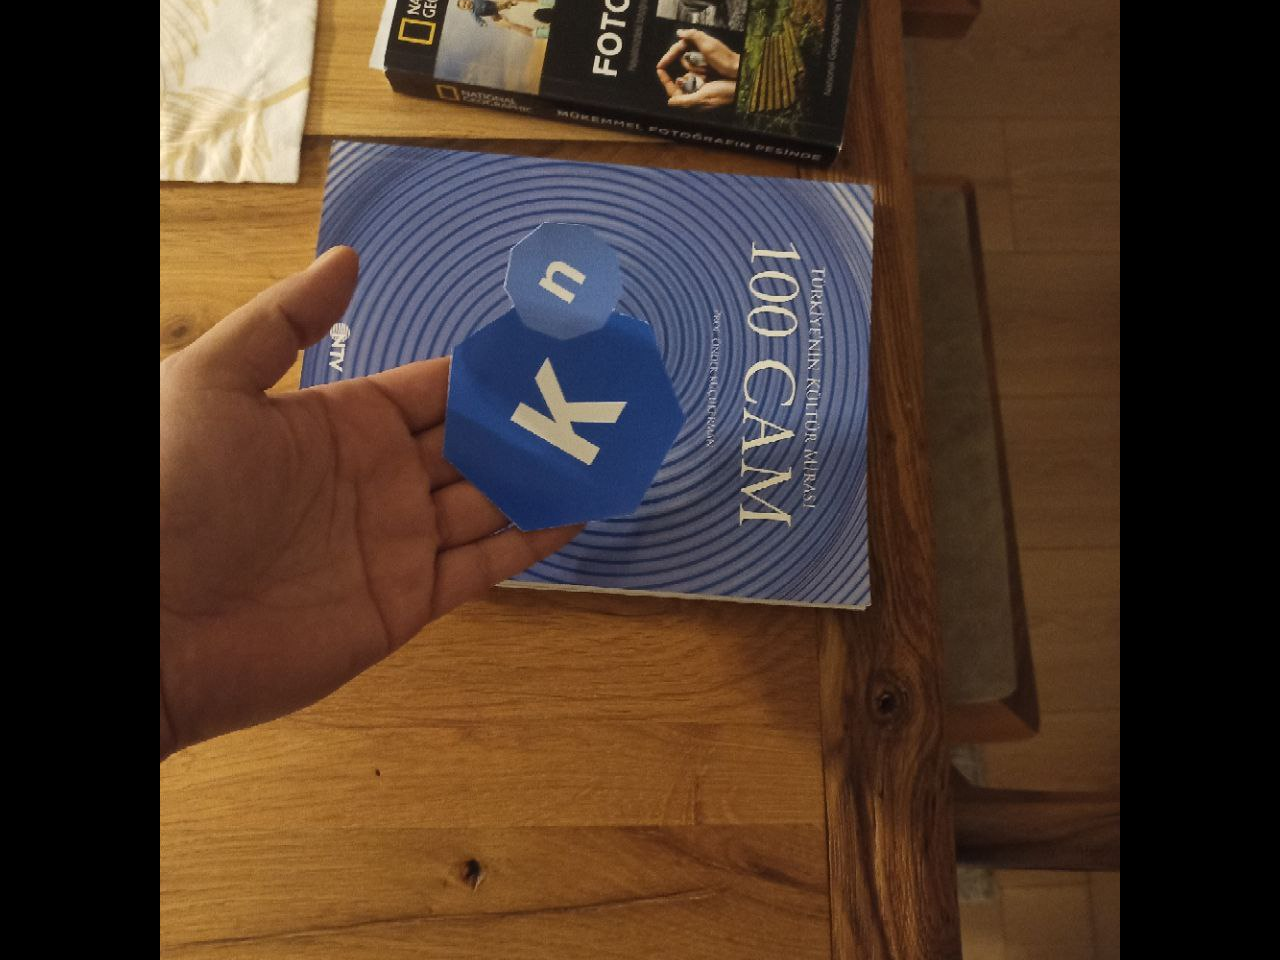knative: (446, 219, 686, 531)
